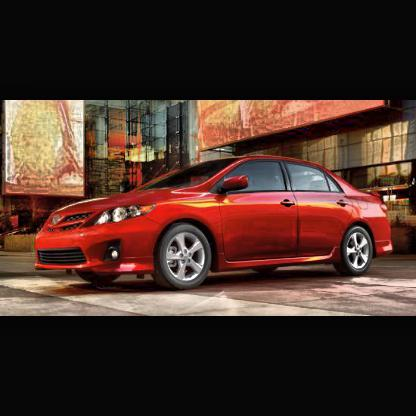Toyota Corolla Sedan 2012: (35, 156, 395, 291)
